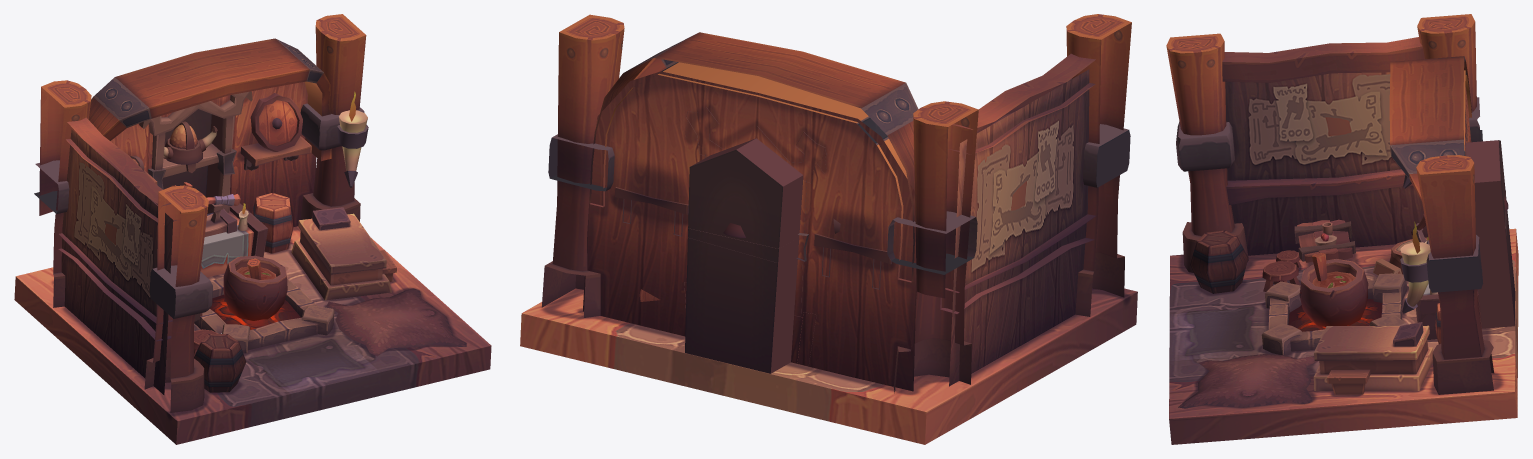
The model's file is viking_room.obj.
The picture shows the model from 3 angles, left to right: view 1: azimuth 30°, elevation 25°; view 2: azimuth 150°, elevation 25°; view 3: azimuth 270°, elevation 25°; orthographic projection. The views are drawn at different scales.
Parts seen in each view (by area): view 1: mesh_all1_Texture1_0; view 2: mesh_all1_Texture1_0; view 3: mesh_all1_Texture1_0.
Boxes of the visible parts, box(x1,y1,x2,y2) form: mesh_all1_Texture1_0: box(14, 14, 491, 444); mesh_all1_Texture1_0: box(520, 14, 1137, 444); mesh_all1_Texture1_0: box(1166, 14, 1518, 444).
Bounding box in the file's own units: 1.46 × 1.14 × 1.34.
